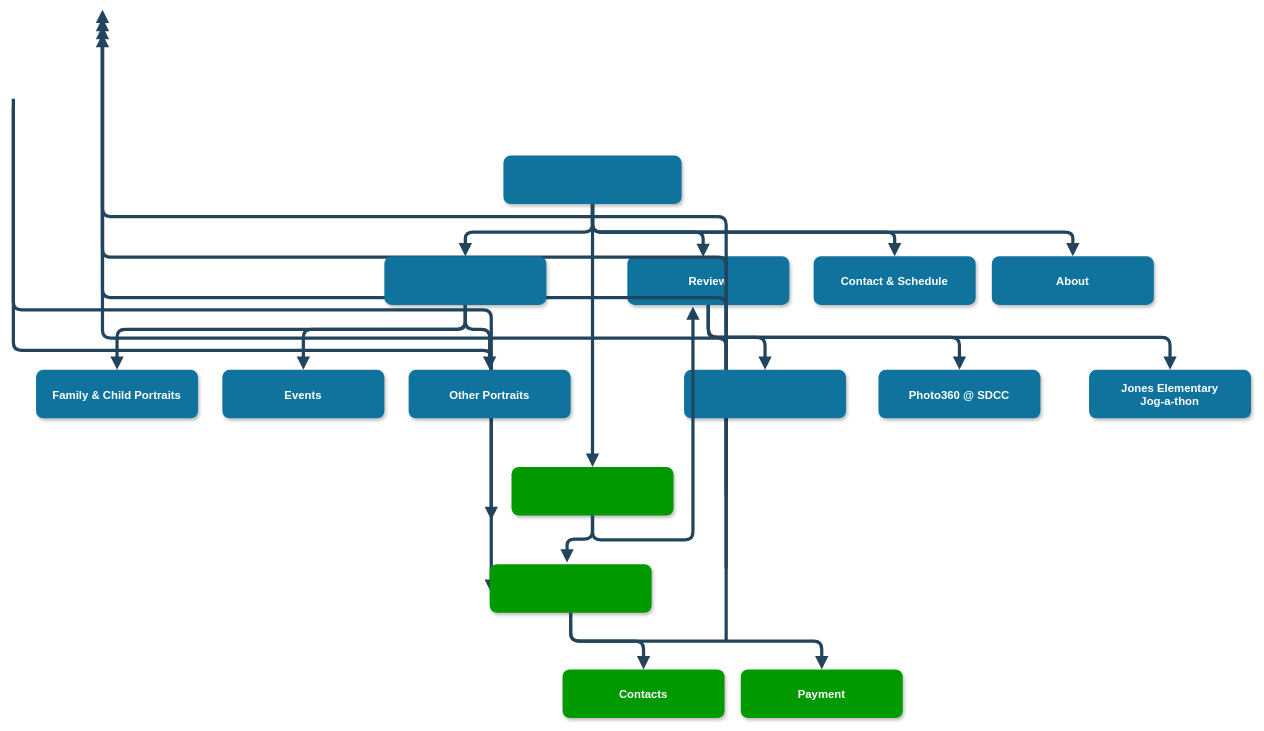
Image size: 1264x731. Some labels were removed from this diagram. The centre of each missing label's shape, as x and y in pixels:
"Afroture @ SDCC" belongs at [765,395].
"Client login" belongs at [593,492].
"Home" belongs at [593,180].
"Portfolio" belongs at [466,281].
"Sessions" belongs at [571,589].
